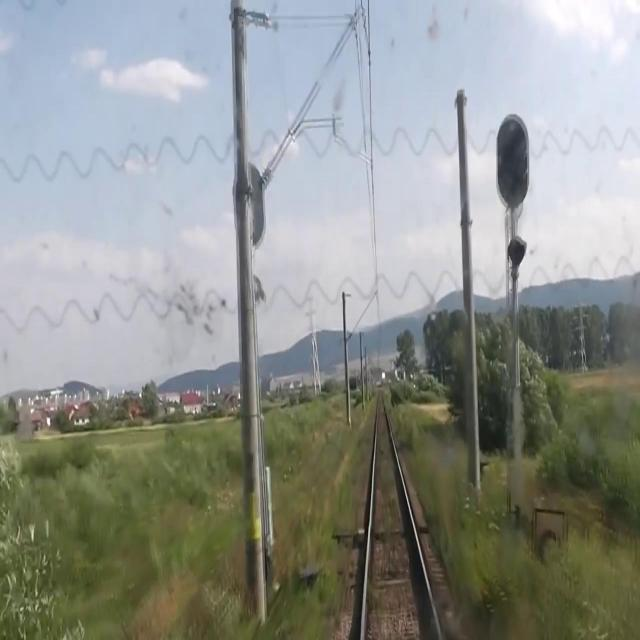rail-track: (365, 396, 436, 639)
